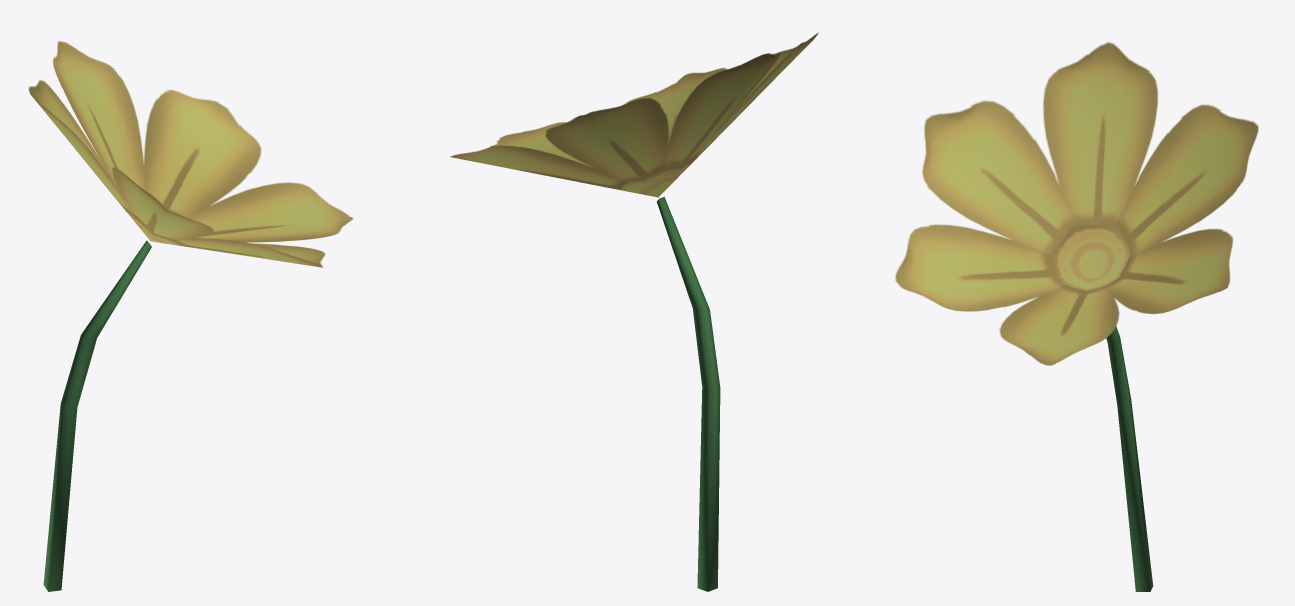
File: Flower_2.glb
3 renders of one model, left to right at view 1: azimuth 30°, elevation 25°; view 2: azimuth 150°, elevation 25°; view 3: azimuth 270°, elevation 25°, orthographic. The views are drawn at different scales.
Visible parts, largest first — view 1: Flower_2; view 2: Flower_2; view 3: Flower_2.
Part boxes in pixels (x1,y1,x2,y2): Flower_2: [28, 41, 353, 591]; Flower_2: [450, 33, 818, 591]; Flower_2: [895, 42, 1258, 591].
Bounding box in the file's own units: 0.239 × 0.3613 × 0.2474.
1 material, 1 textured.
